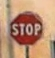stop: (9, 11, 43, 45)
